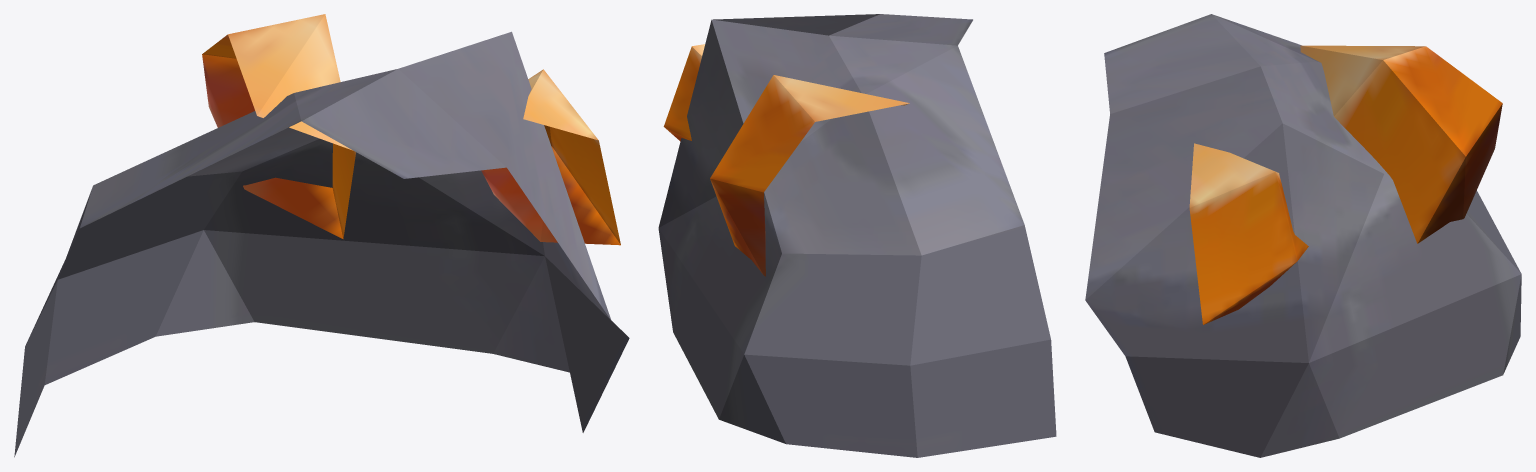
File: RockSmallCopper.fbx
3 views of the same model, side by side, from view 1: azimuth 30°, elevation 25°; view 2: azimuth 150°, elevation 25°; view 3: azimuth 270°, elevation 25° (orthographic). The views are drawn at different scales.
Visible parts, largest first — view 1: RockMesh, Resource1, Resource2; view 2: RockMesh, Resource1, Resource2; view 3: RockMesh, Resource1, Resource2.
Part boxes in pixels (x1,y1,x2,y2): RockMesh: (14,31,629,457); Resource1: (202,14,355,238); Resource2: (481,69,620,245); RockMesh: (658,14,1056,457); Resource1: (710,75,909,276); Resource2: (663,44,705,141); RockMesh: (1085,14,1521,457); Resource1: (1300,45,1502,243); Resource2: (1189,143,1308,324).
Size of what is drawn, in the model's own units: 1.08 by 0.7108 by 0.8882.
